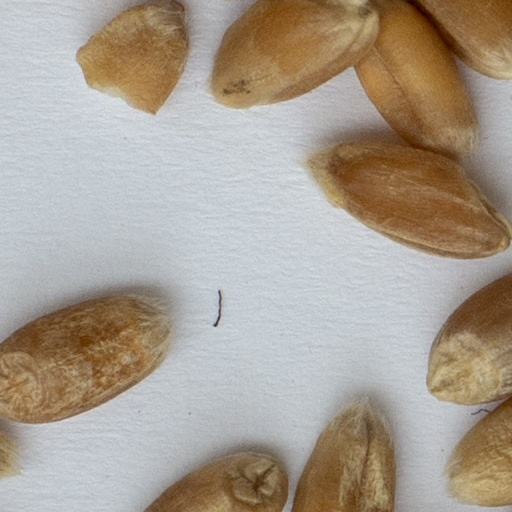Wheat-grain-damaged-poly: (75, 0, 191, 118)
Wheat-grain-poly: (309, 135, 511, 257), (0, 290, 176, 423), (359, 2, 474, 162), (214, 0, 378, 108), (293, 396, 394, 511), (427, 276, 511, 403), (148, 451, 285, 511), (425, 0, 511, 78), (0, 423, 35, 484)
